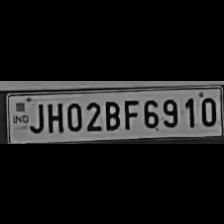0: (64, 99, 82, 131), (198, 93, 216, 125)
1: (180, 94, 196, 128)
2: (82, 97, 102, 132)
6: (140, 96, 158, 128)
9: (159, 94, 179, 128)
B: (102, 97, 120, 130)
F: (122, 95, 139, 129)
H: (44, 100, 64, 132)
J: (28, 100, 44, 132)
